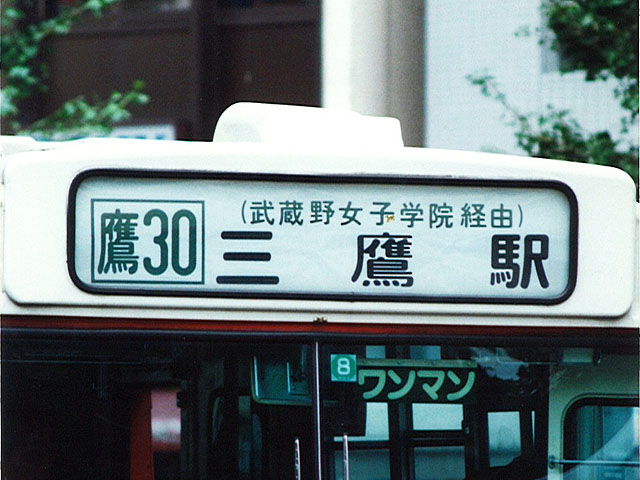destination: (65, 166, 580, 306)
